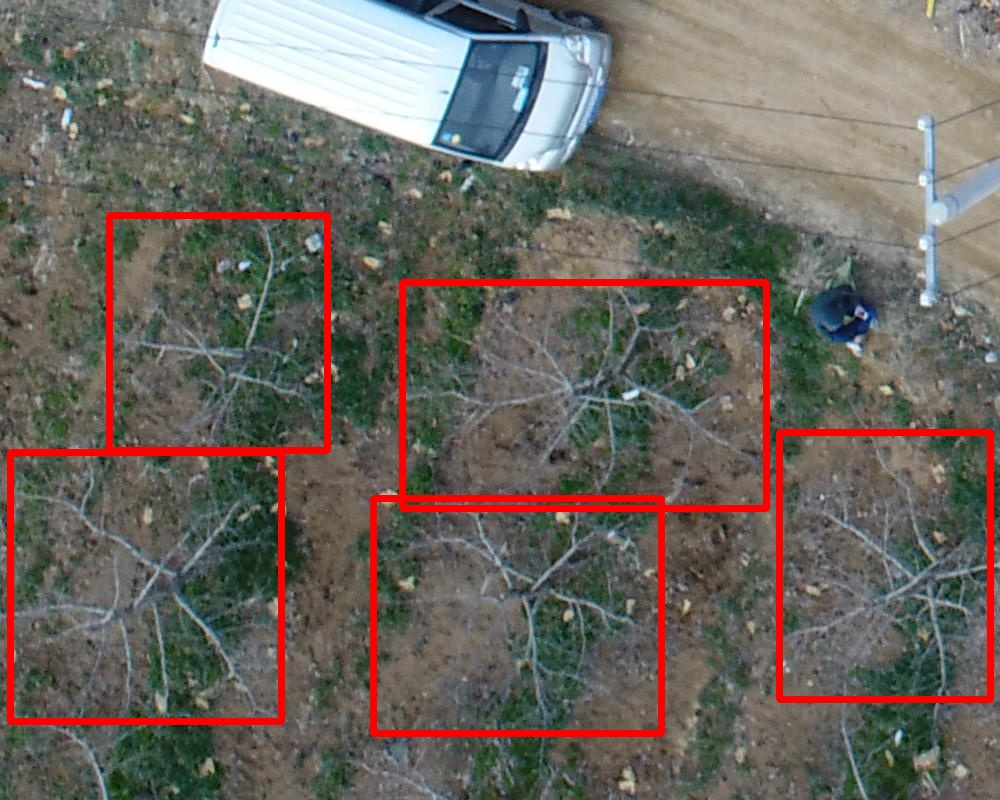apple: (402, 282, 766, 508), (10, 452, 281, 721), (373, 498, 661, 733), (779, 432, 990, 699), (109, 215, 327, 450)
